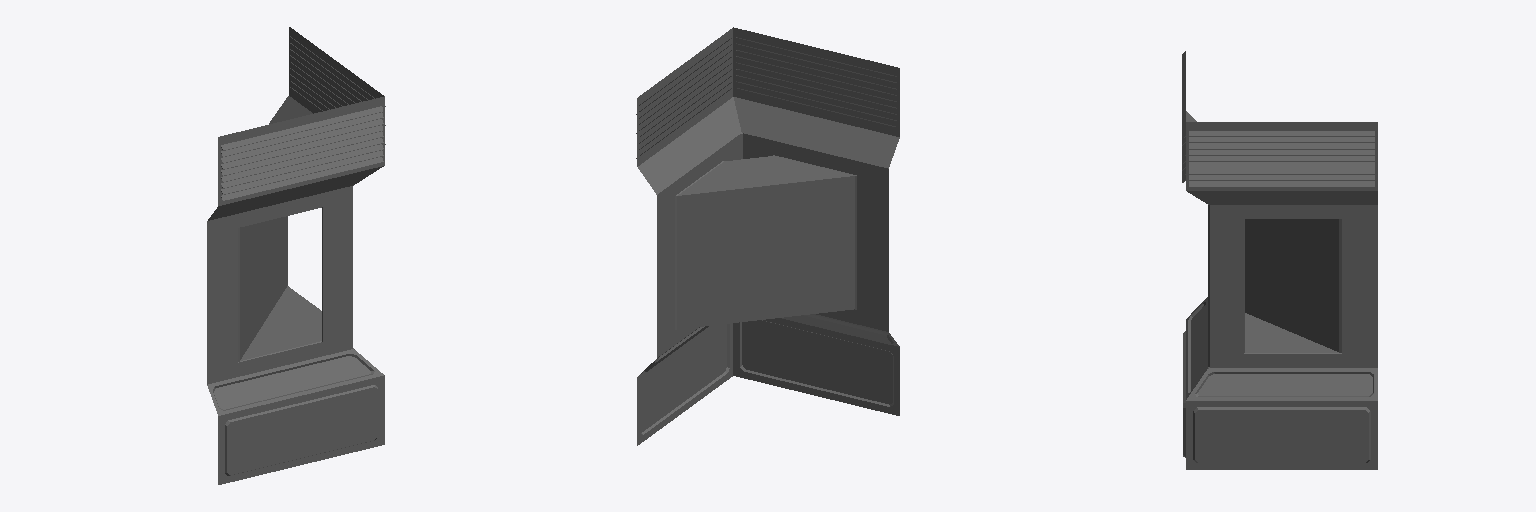
The model's file is WallCornerExt01_HP.obj.
3 views of the same model, side by side, from view 1: azimuth 30°, elevation 25°; view 2: azimuth 150°, elevation 25°; view 3: azimuth 270°, elevation 25° (orthographic).
Visible parts, largest first — view 1: Plane002; view 2: Plane002; view 3: Plane002.
Boxes of the visible parts, box(x1,y1,x2,y2) form: Plane002: box(207, 27, 385, 484); Plane002: box(636, 27, 899, 445); Plane002: box(1182, 51, 1377, 469).
Bounding box in the file's own units: 261 × 512 × 261.